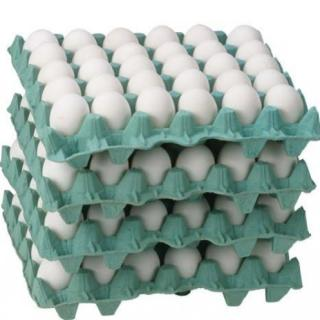Milk: (9, 27, 315, 145), (24, 230, 296, 299), (37, 150, 320, 198)
